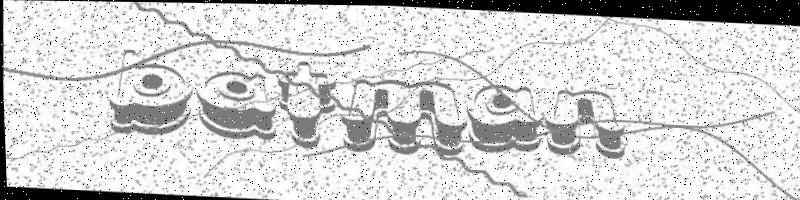a: (193, 68, 279, 140), (464, 80, 543, 154)
b: (105, 46, 193, 137)
m: (337, 77, 467, 156)
n: (542, 86, 628, 159)
t: (274, 58, 339, 148)
